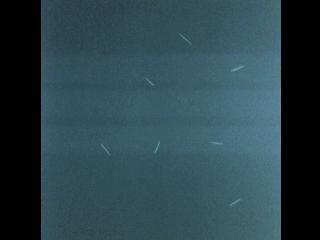scratch: (176, 30, 195, 48), (227, 61, 246, 74), (228, 193, 245, 206), (150, 139, 162, 157), (99, 142, 112, 158), (144, 76, 156, 87), (209, 140, 224, 146)
